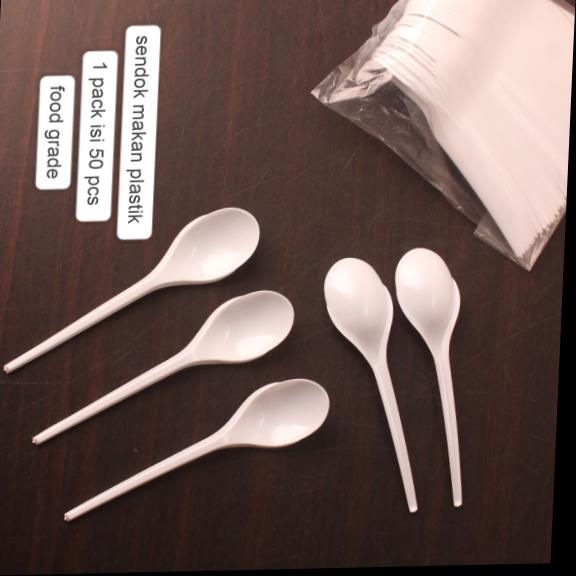Plastik: (4, 209, 258, 372), (32, 291, 293, 444), (64, 379, 328, 521), (324, 259, 416, 511), (395, 248, 461, 506)
